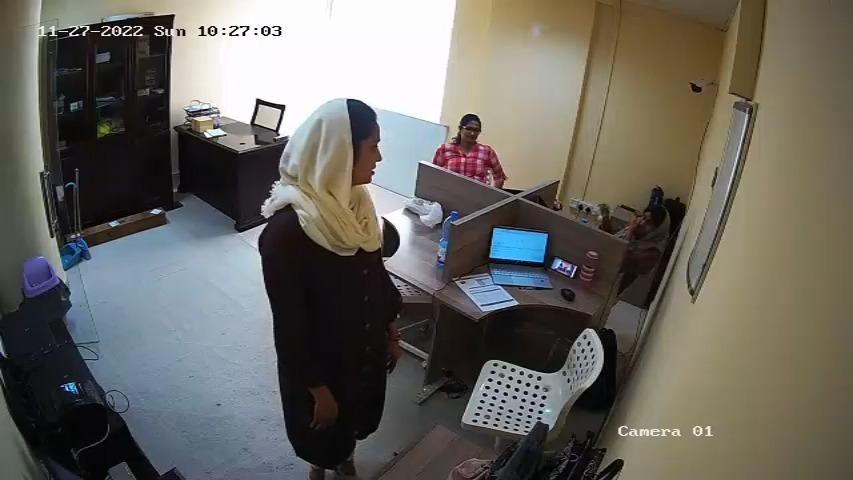no_apron: (276, 205, 389, 382)
